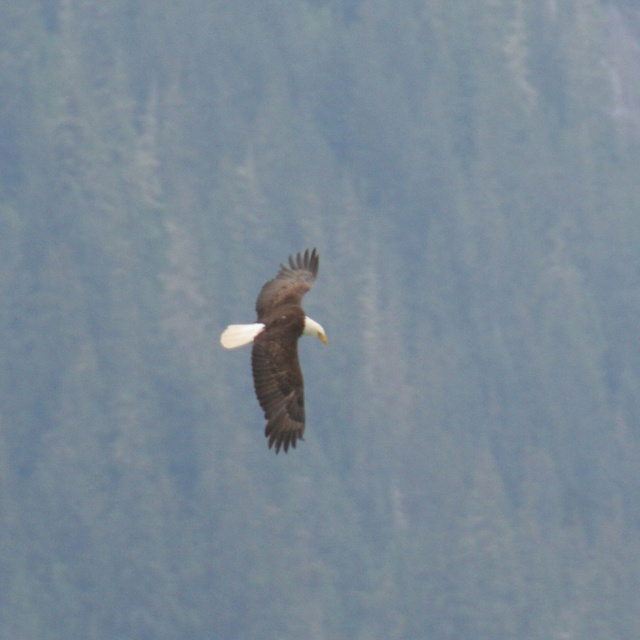Eagle: (218, 246, 325, 456)
